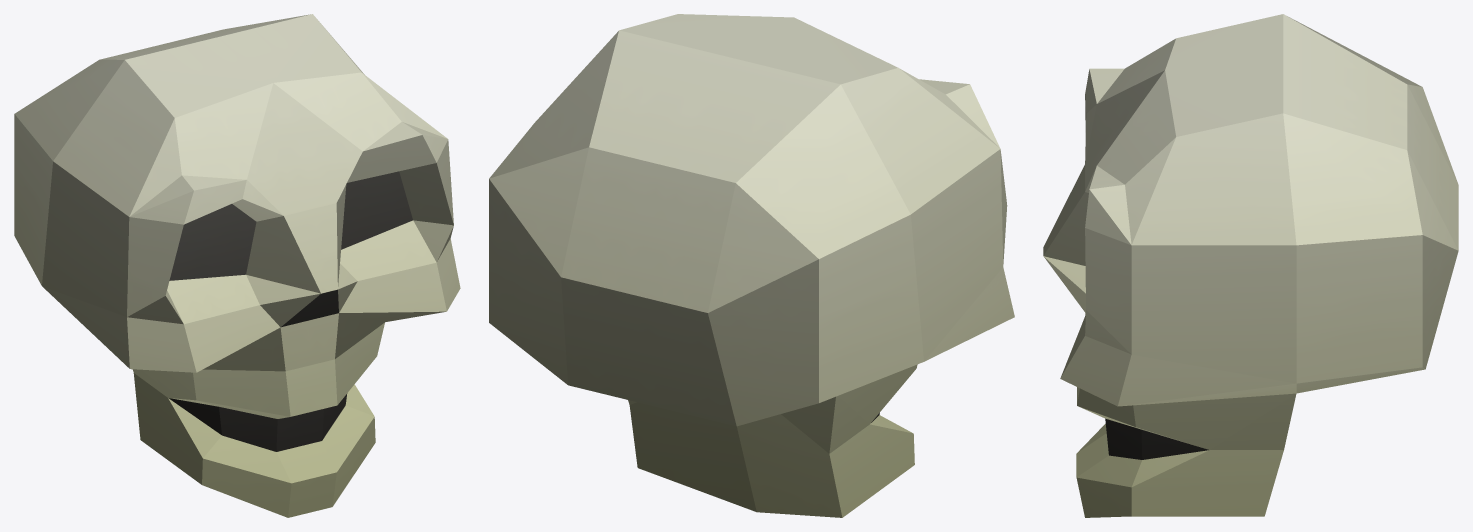
Rendered from Skull.fbx.
3 views of the same model, side by side, from view 1: azimuth 30°, elevation 25°; view 2: azimuth 150°, elevation 25°; view 3: azimuth 270°, elevation 25° (orthographic). The views are drawn at different scales.
Visible parts, largest first — view 1: Skull; view 2: Skull; view 3: Skull.
Boxes of the visible parts, x1,y1,x2,y2 form: Skull: [14, 14, 460, 517]; Skull: [489, 14, 1014, 517]; Skull: [1043, 14, 1458, 517].
Size of the model in its own units: 22.76 by 26.02 by 22.13.
